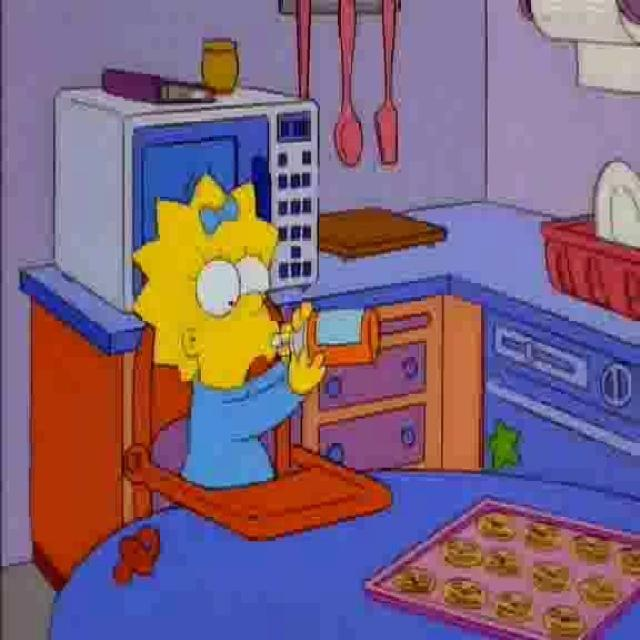Maggie Simpson: (128, 172, 288, 394)
